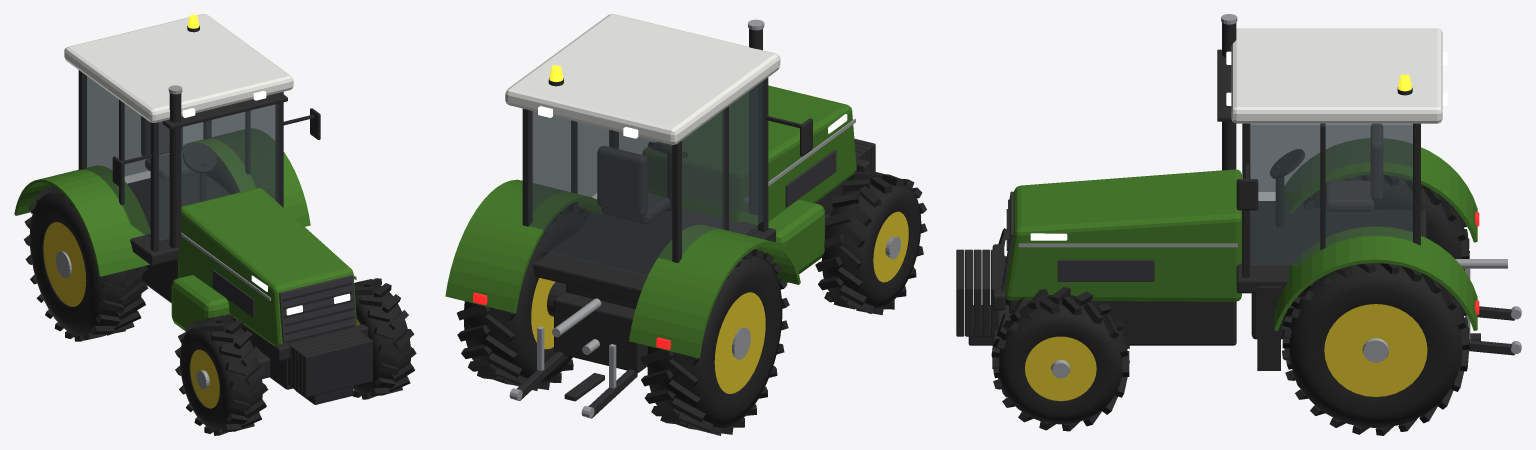
Rendered from tractor_jd_6r250.glb.
The picture shows the model from 3 angles, left to right: view 1: azimuth 30°, elevation 25°; view 2: azimuth 150°, elevation 25°; view 3: azimuth 270°, elevation 25°; orthographic projection. The views are drawn at different scales.
Visible parts, largest first — view 1: carroceria, vidrios, rueda_td, rueda_dd, rueda_di, rueda_ti; view 2: carroceria, vidrios, rueda_td, rueda_dd, rueda_ti, tripuntal, brazos_tripuntal; view 3: carroceria, rueda_ti, vidrios, rueda_di, rueda_td, brazos_tripuntal.
Boxes of the visible parts, box(x1,y1,x2,y2) form: carroceria: box(14, 14, 372, 404); vidrios: box(83, 73, 278, 240); rueda_td: box(24, 186, 148, 341); rueda_dd: box(175, 314, 268, 435); rueda_di: box(352, 278, 416, 399); rueda_ti: box(206, 157, 238, 194); carroceria: box(445, 14, 875, 357); vidrios: box(528, 81, 763, 275); rueda_td: box(640, 249, 789, 435); rueda_dd: box(815, 169, 927, 315); rueda_ti: box(457, 204, 590, 390); tripuntal: box(554, 292, 648, 401); brazos_tripuntal: box(509, 298, 637, 418); carroceria: box(956, 14, 1477, 370); rueda_ti: box(1282, 263, 1469, 435); vidrios: box(1250, 123, 1412, 265); rueda_di: box(991, 287, 1129, 431); rueda_td: box(1303, 175, 1469, 270); brazos_tripuntal: box(1455, 259, 1521, 355).
Size of the model in its own units: 2.67 by 3.41 by 5.24.
